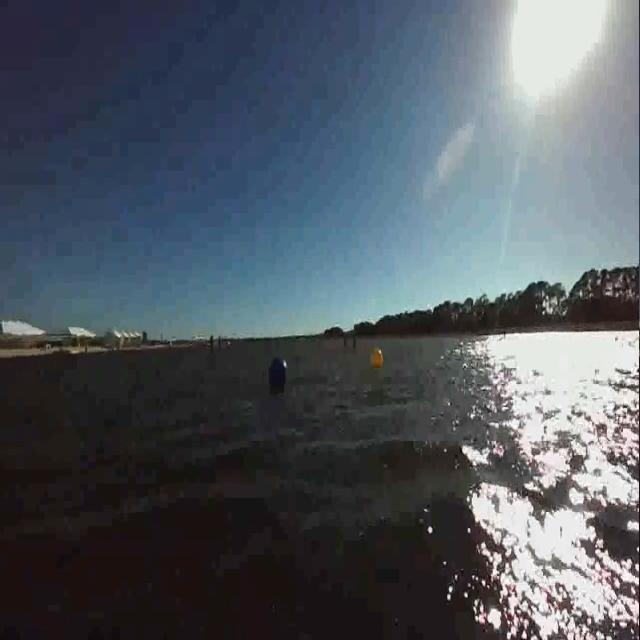blue-buoy: (269, 354, 289, 390)
yellow-buoy: (372, 345, 385, 369)
